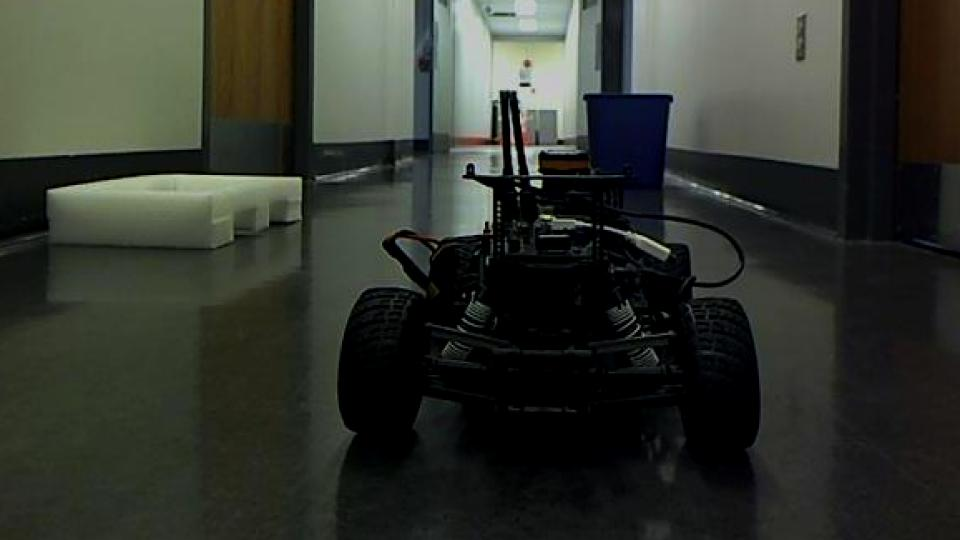car: (334, 89, 766, 458)
